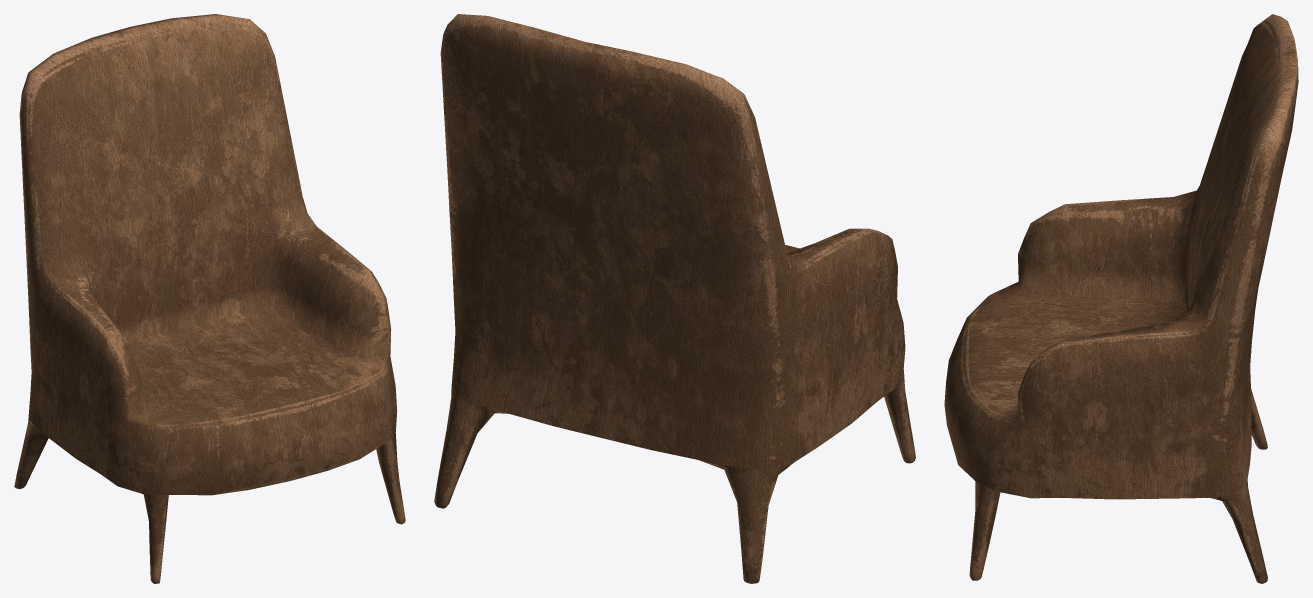
3 renders of one model, left to right at view 1: azimuth 30°, elevation 25°; view 2: azimuth 150°, elevation 25°; view 3: azimuth 270°, elevation 25°, orthographic. The views are drawn at different scales.
Visible parts, largest first — view 1: Object_2; view 2: Object_2; view 3: Object_2.
Boxes of the visible parts, x1,y1,x2,y2 form: Object_2: (14, 14, 405, 583); Object_2: (434, 14, 915, 583); Object_2: (944, 14, 1298, 583).
Size of the model in its own units: 19.38 by 27.86 by 19.65.
Materials: 1 (1 with a texture image).
